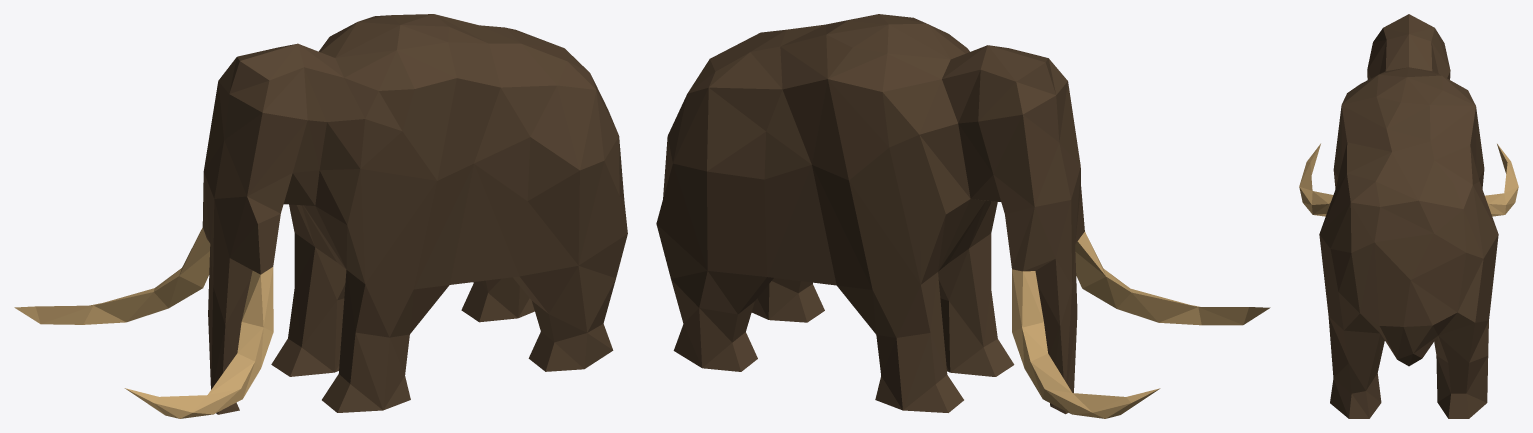
The model's file is Mammoth.fbx.
The picture shows the model from 3 angles, left to right: view 1: azimuth 30°, elevation 25°; view 2: azimuth 150°, elevation 25°; view 3: azimuth 270°, elevation 25°; orthographic projection. The views are drawn at different scales.
Visible parts, largest first — view 1: Mammoth; view 2: Mammoth; view 3: Mammoth.
Boxes of the visible parts, x1,y1,x2,y2 form: Mammoth: (14,14,627,418); Mammoth: (656,14,1270,418); Mammoth: (1299,14,1518,418).
Size of the model in its own units: 0.8657 by 0.5366 by 0.3852.
